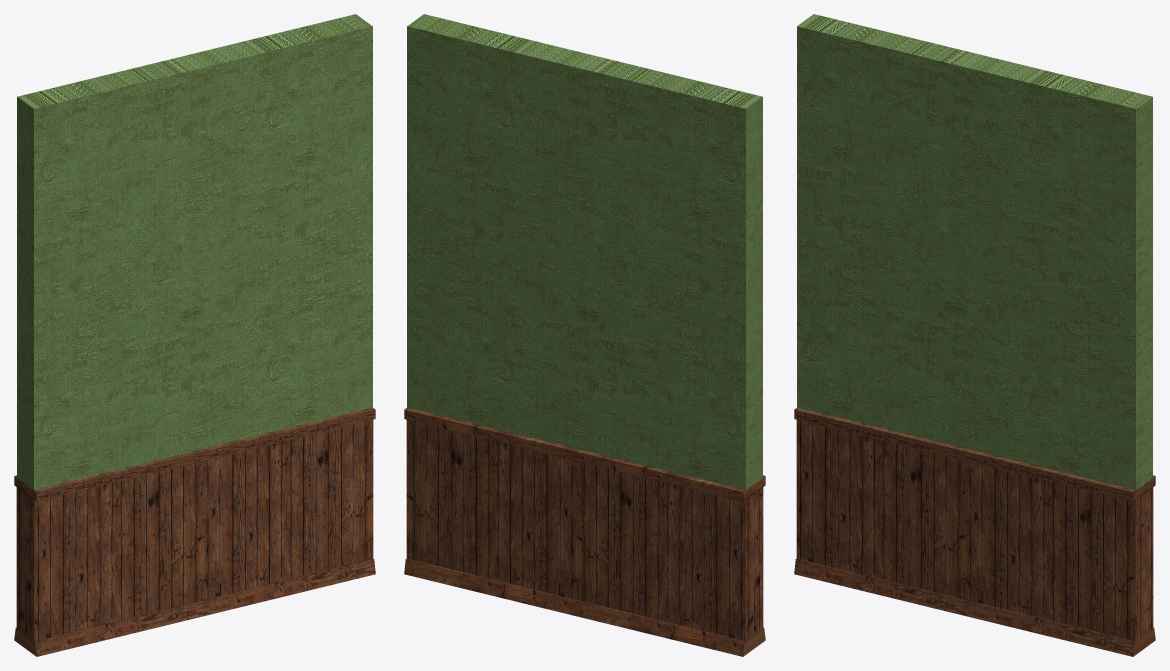
The model's file is OfficeWall02.fbx.
The picture shows the model from 3 angles, left to right: view 1: azimuth 30°, elevation 25°; view 2: azimuth 150°, elevation 25°; view 3: azimuth 330°, elevation 25°; orthographic projection.
Parts seen in each view (by area): view 1: Cube.003; view 2: Cube.003; view 3: Cube.003.
Boxes of the visible parts, x1,y1,x2,y2 form: Cube.003: (14, 14, 375, 656); Cube.003: (404, 14, 765, 656); Cube.003: (794, 14, 1155, 656).
Bounding box in the file's own units: 650 × 1000 × 75.3.
